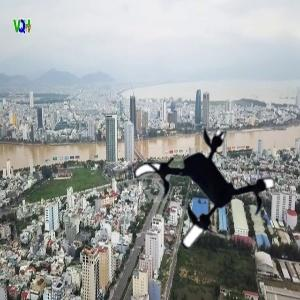drone: (130, 120, 274, 264)
